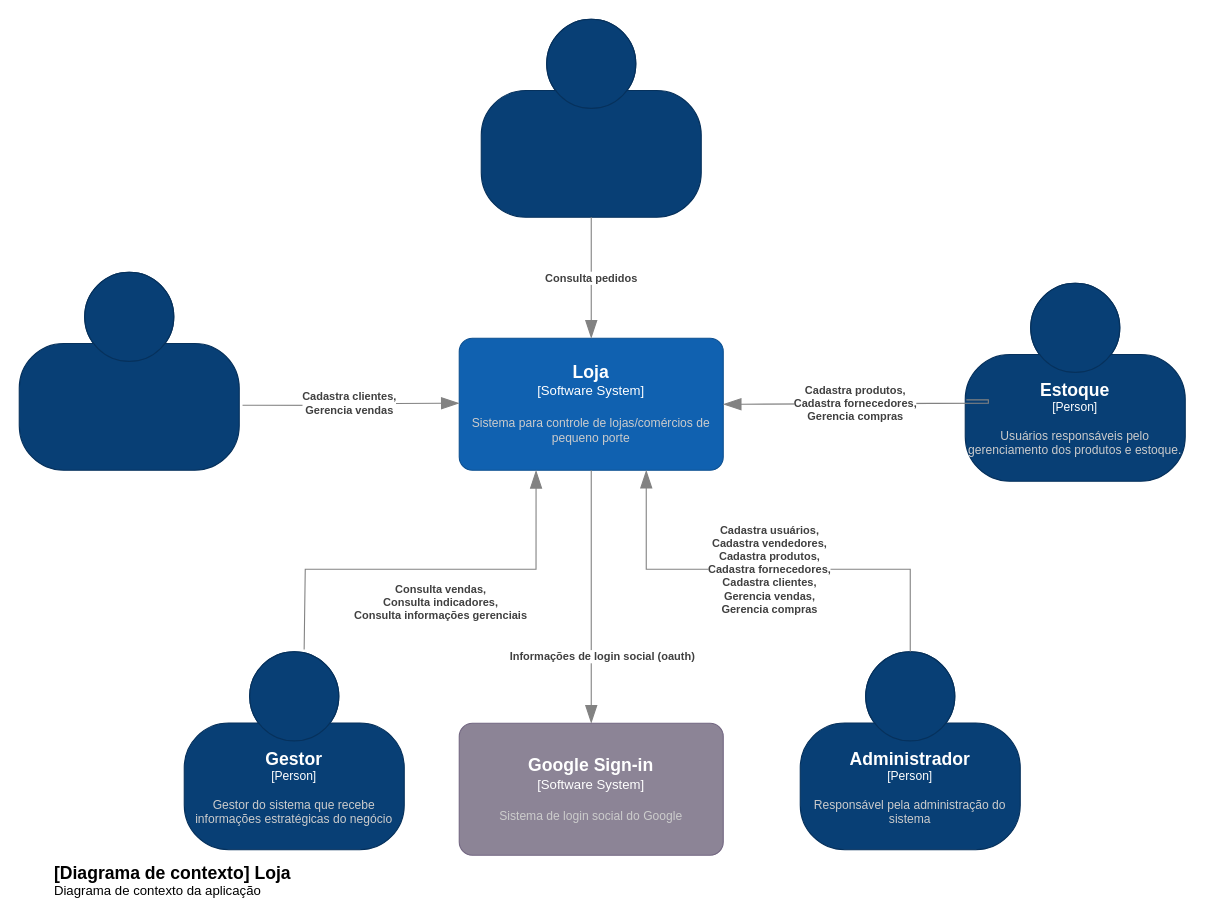
The diagram is 1205 pixels wide and 920 high, and some of its shapes have lost their labels. The centre of each missing label's shape, as x and y in pixels:
Cliente [Person] Clientes identificados da loja: point 590,117
Vendedor [Person] Vendedores, inclusive o caixa da loja.: point 128,370
